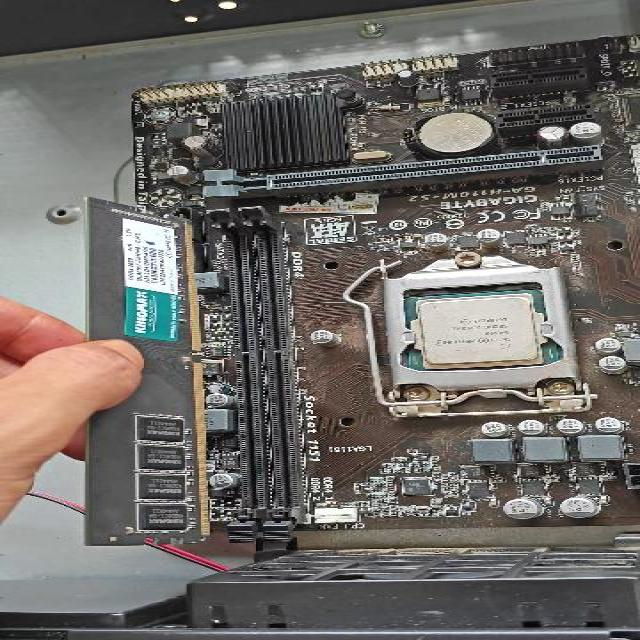CPU: (402, 290, 549, 368)
Mainboard: (119, 24, 640, 552)
RAM: (68, 188, 222, 552)
